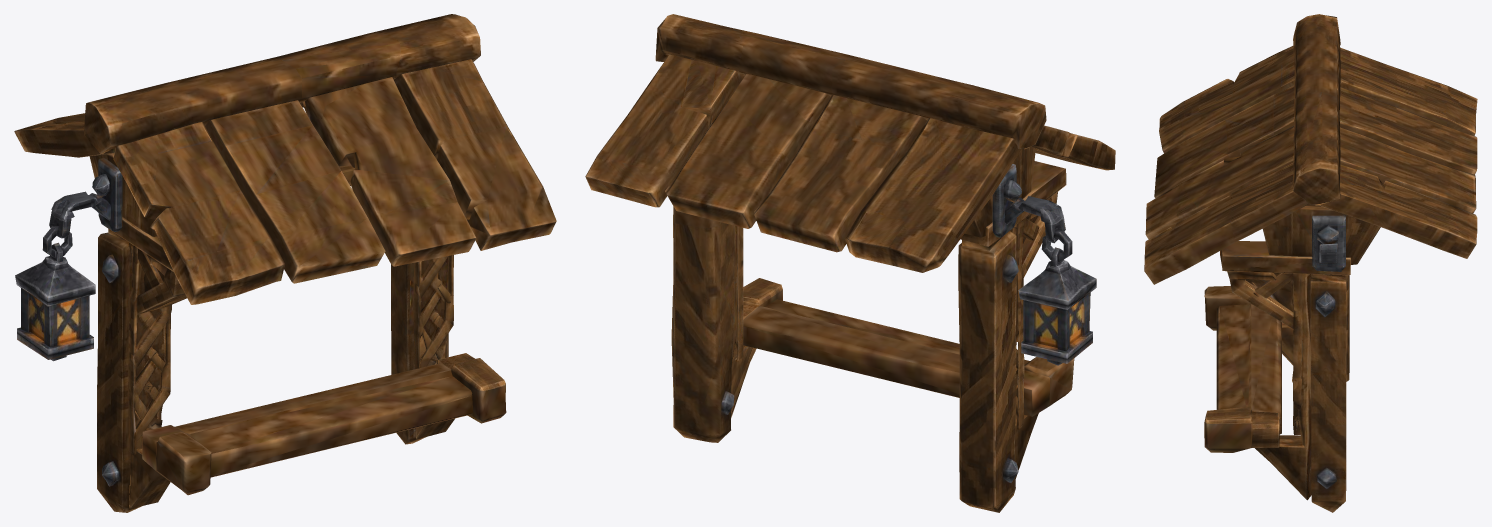
The model's file is PerchCanopy.fbx.
The picture shows the model from 3 angles, left to right: view 1: azimuth 30°, elevation 25°; view 2: azimuth 150°, elevation 25°; view 3: azimuth 270°, elevation 25°; orthographic projection. The views are drawn at different scales.
Parts seen in each view (by area): view 1: Mesh_0; view 2: Mesh_0; view 3: Mesh_0.
Part boxes in pixels (<box>): Mesh_0: <box>14,14,556,512</box>; Mesh_0: <box>585,14,1115,512</box>; Mesh_0: <box>1144,14,1477,512</box>.
Size of the model in its own units: 95.36 by 87.45 by 73.97.
1 material, 1 textured.
